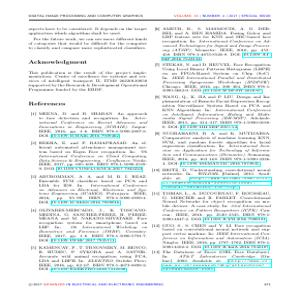text: (151, 24, 277, 275), (24, 25, 150, 275)
